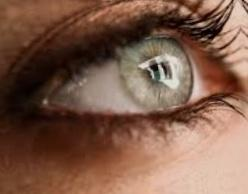eye: (119, 35, 194, 112)
